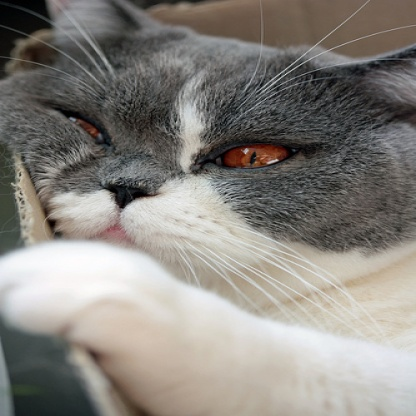british_shorthair: (2, 3, 413, 415)
